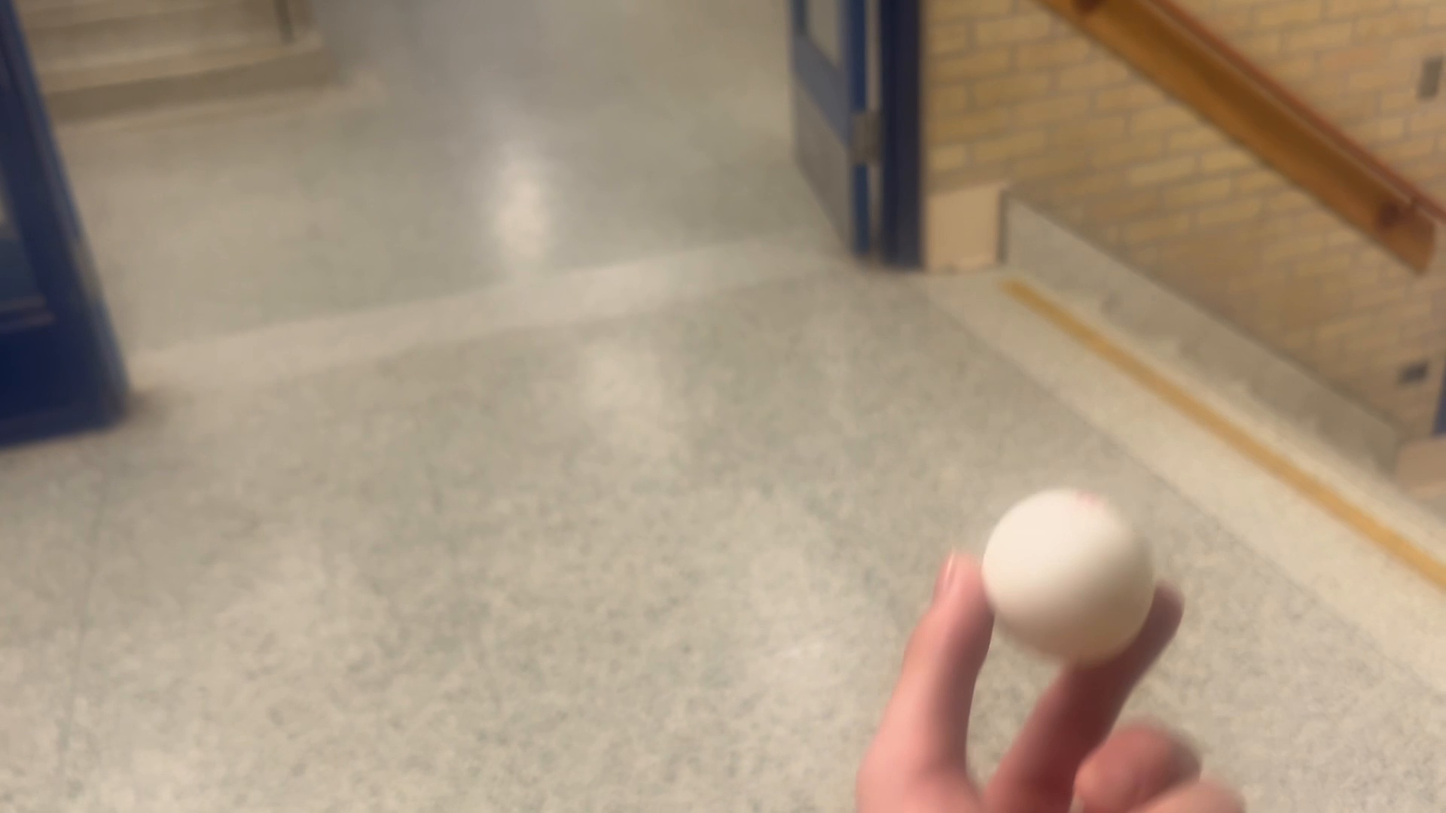Ball: (978, 476, 1146, 657)
